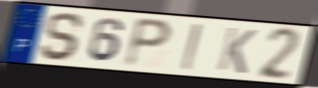2: (255, 25, 302, 82)
6: (88, 17, 124, 63)
I: (180, 22, 203, 72)
K: (215, 25, 258, 76)
P: (121, 15, 175, 70)
S: (38, 11, 86, 63)
